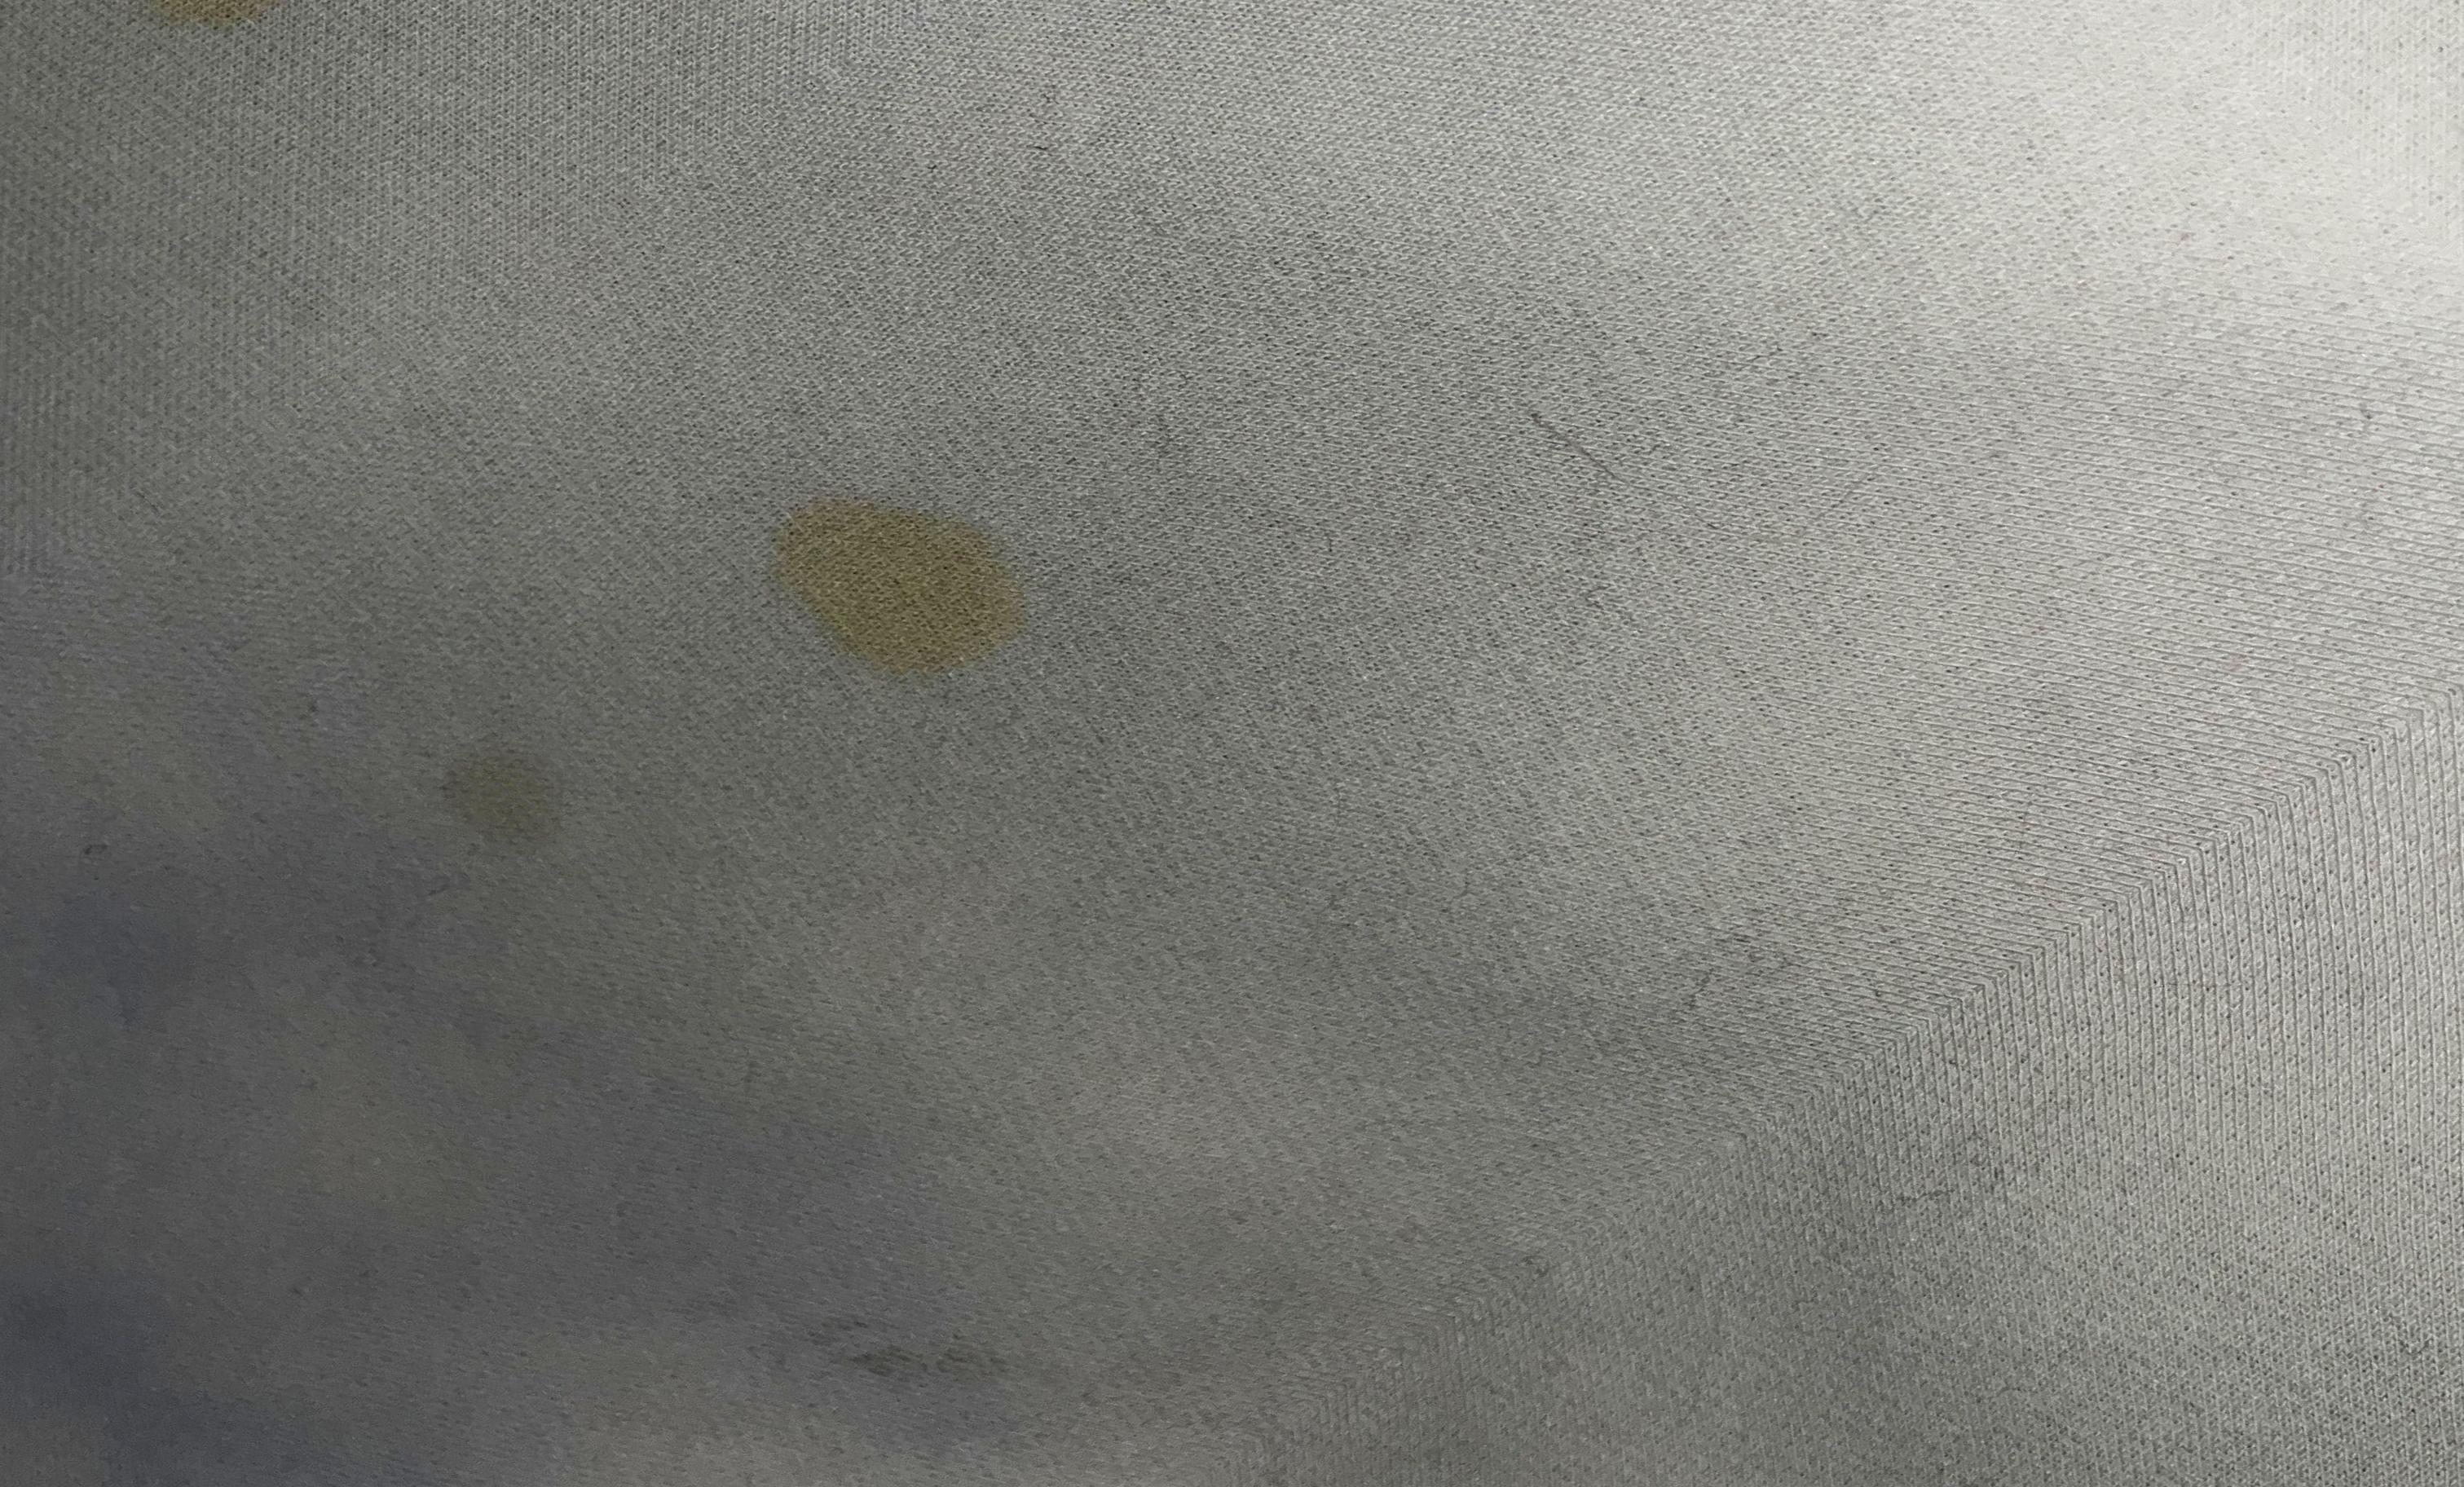stain: (773, 479, 1049, 706), (429, 720, 588, 864)
